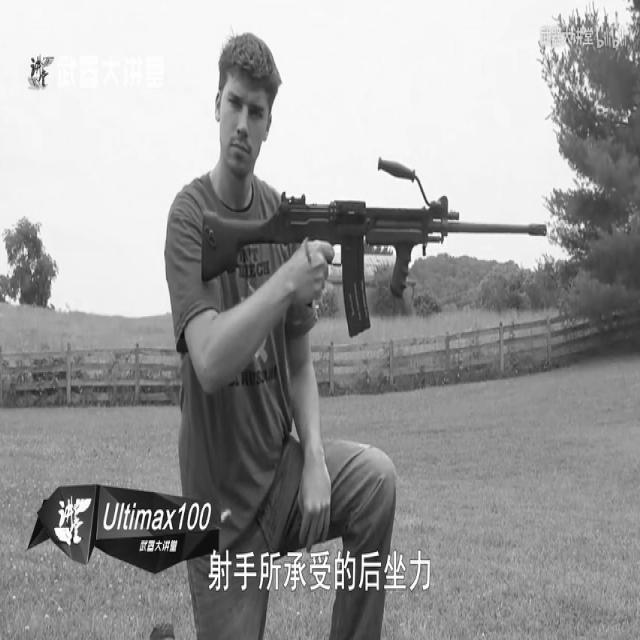Sniper: (160, 120, 558, 424)
